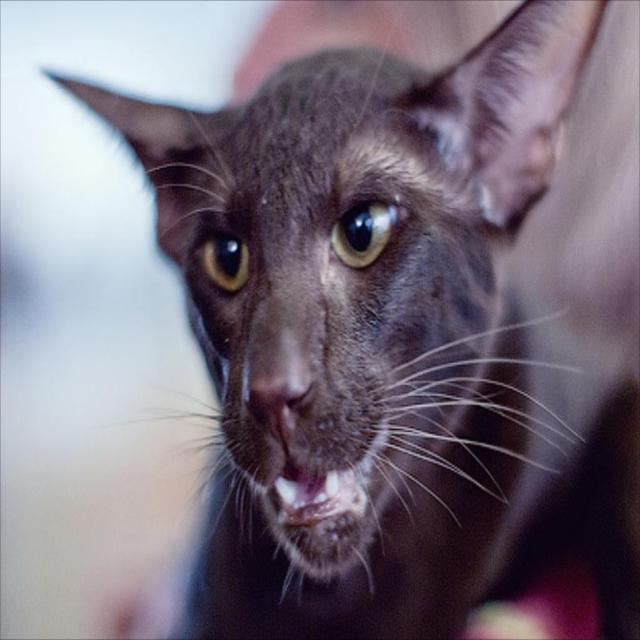Cat: (39, 0, 614, 639)
